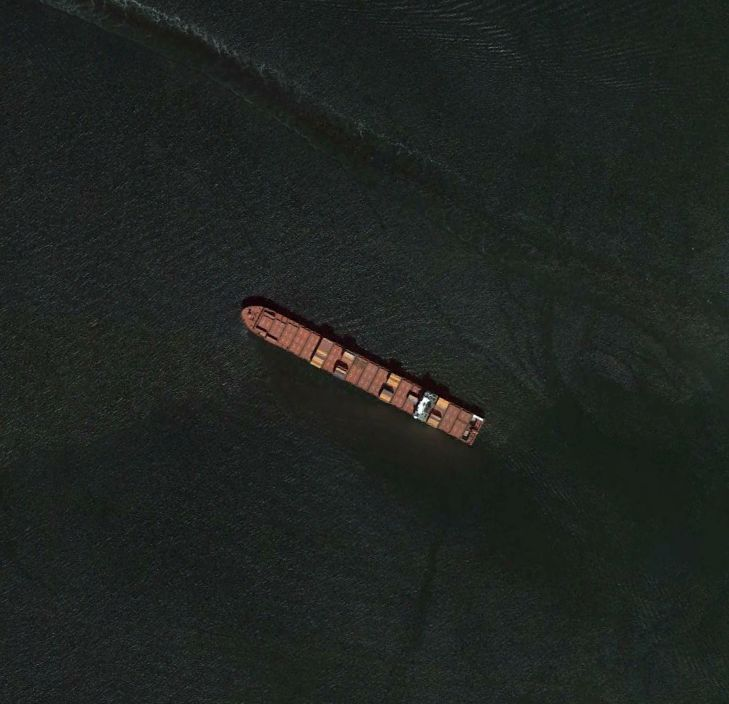boat: (240, 303, 485, 449)
